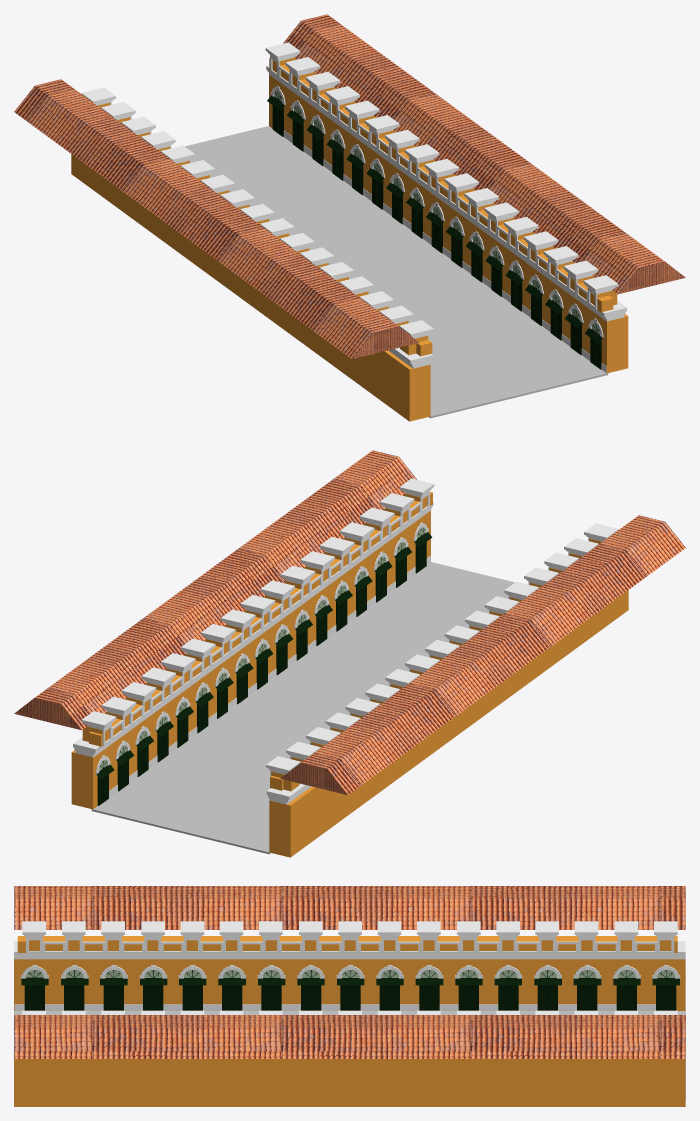
The model's file is mercado_path_low.FBX.
3 views of the same model, one above another, from view 1: azimuth 30°, elevation 25°; view 2: azimuth 150°, elevation 25°; view 3: azimuth 270°, elevation 25° (orthographic).
Parts seen in each view (by area): view 1: telhado, chao, brancos, paredes, portas_e_abas, cubos_up, arcos, vidro redondo033; view 2: telhado, chao, brancos, paredes, portas_e_abas, cubos_up, arcos, vidro redondo033; view 3: telhado, paredes, brancos, portas_e_abas, cubos_up, arcos, vidro redondo033, chao.
Boxes of the visible parts, x1=… form: telhado: x1=14, y1=14, x2=685, y2=358; chao: x1=185, y1=126, x2=608, y2=418; brancos: x1=81, y1=42, x2=626, y2=372; paredes: x1=71, y1=74, x2=628, y2=421; portas_e_abas: x1=267, y1=91, x2=602, y2=369; cubos_up: x1=98, y1=57, x2=617, y2=356; arcos: x1=271, y1=86, x2=603, y2=337; vidro redondo033: x1=274, y1=90, x2=600, y2=334; telhado: x1=14, y1=450, x2=685, y2=794; chao: x1=91, y1=562, x2=514, y2=854; brancos: x1=73, y1=478, x2=618, y2=804; paredes: x1=71, y1=510, x2=628, y2=857; portas_e_abas: x1=96, y1=528, x2=432, y2=805; cubos_up: x1=82, y1=492, x2=602, y2=791; arcos: x1=95, y1=522, x2=428, y2=774; vidro redondo033: x1=99, y1=527, x2=424, y2=770; telhado: x1=14, y1=886, x2=685, y2=1058; paredes: x1=14, y1=959, x2=685, y2=1106; brancos: x1=14, y1=921, x2=685, y2=1052; portas_e_abas: x1=21, y1=970, x2=679, y2=1010; cubos_up: x1=17, y1=936, x2=677, y2=952; arcos: x1=21, y1=965, x2=680, y2=978; vidro redondo033: x1=26, y1=970, x2=674, y2=977; chao: x1=14, y1=1011, x2=685, y2=1098.
Bounding box in the file's own units: 1110 × 315 × 1946.
